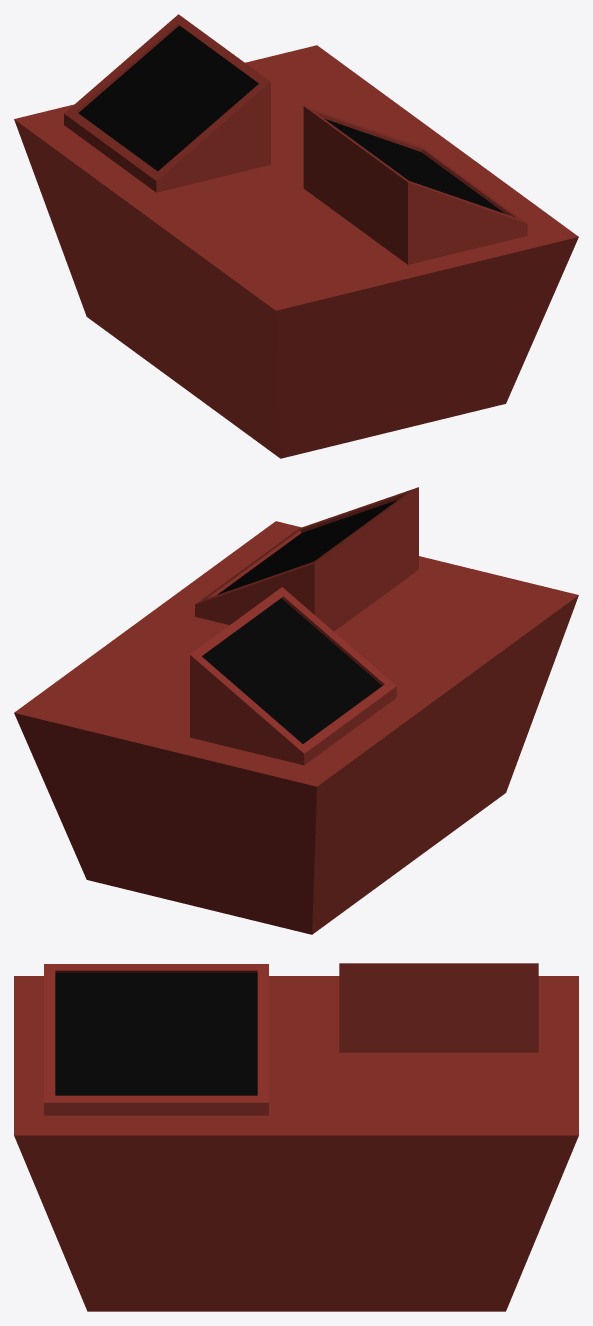
File: expositor1.fbx
3 views of the same model, one above another, from view 1: azimuth 30°, elevation 25°; view 2: azimuth 150°, elevation 25°; view 3: azimuth 270°, elevation 25° (orthographic). The views are drawn at different scales.
Visible parts, largest first — view 1: Cube.016; view 2: Cube.016; view 3: Cube.016.
Boxes of the visible parts, left/top/right/bottom form: Cube.016: left=14, top=14, right=578, bottom=458; Cube.016: left=14, top=487, right=578, bottom=934; Cube.016: left=14, top=963, right=578, bottom=1311.
Size of the model in its own units: 407 by 340 by 609.
